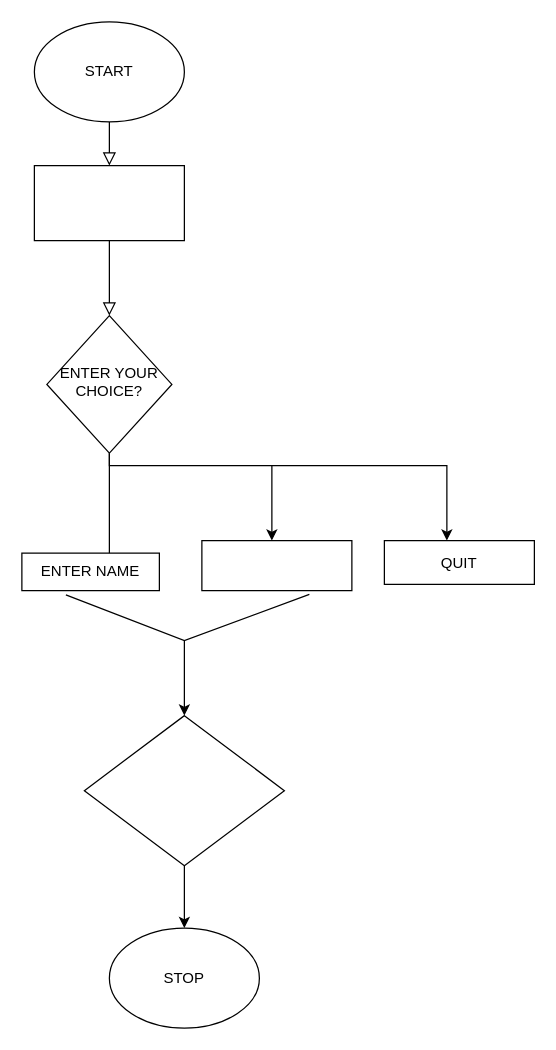
The diagram is 556 pixels wide and 1050 high, and some of its shapes have lost their labels. The centre of each missing label's shape, as x and y in pixels:
DO YOU WANT TO CONTINUE: (x=183, y=790)
ENTER THE MAIN MENU OF SNAKE GAME: (x=108, y=202)
PLAY GAME: (x=276, y=565)
